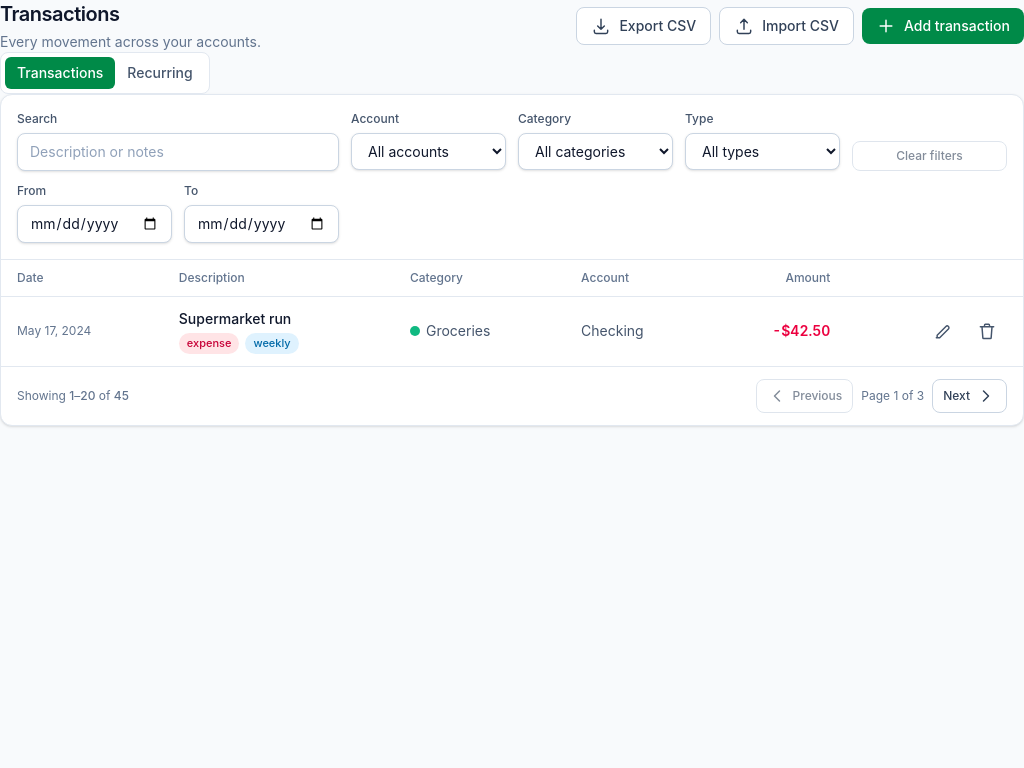
Test: TransactionsPage › deletes a transaction after confirmation
The image size is (1024, 768).
Check: the text "Supermarket run" is shown, box 179,310 -> 291,327
Click the button named "delete supermarket run": (987, 331) 967,315 -> 1007,347
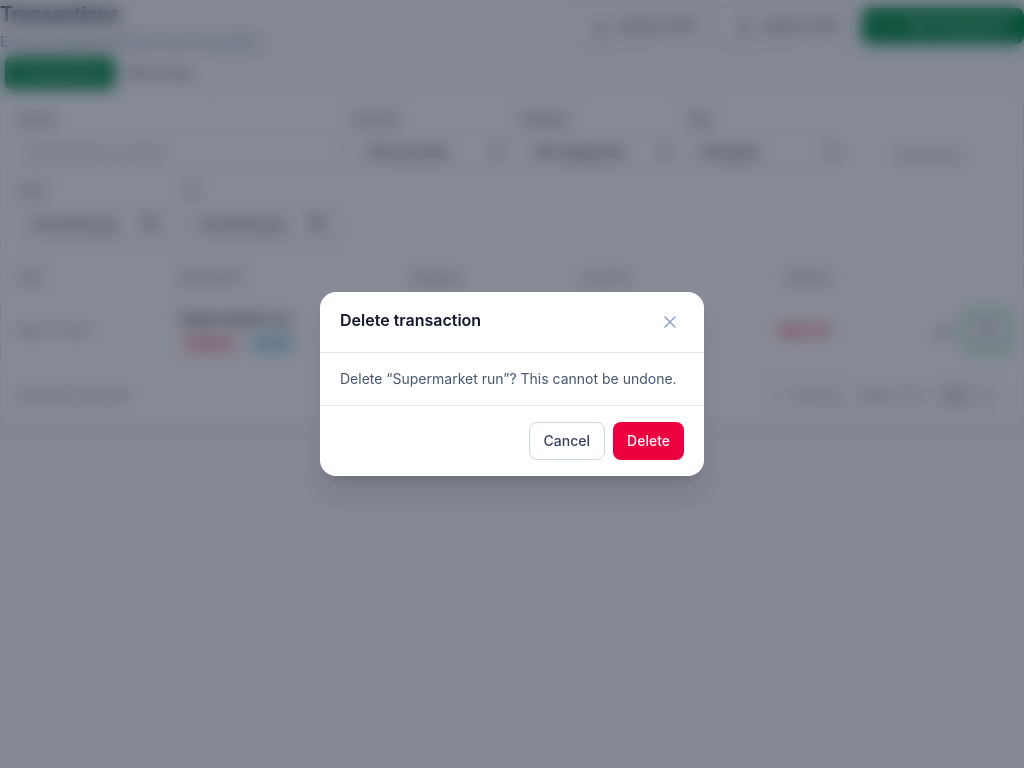
Click the button "Delete": (649, 441) 613,422 -> 684,460
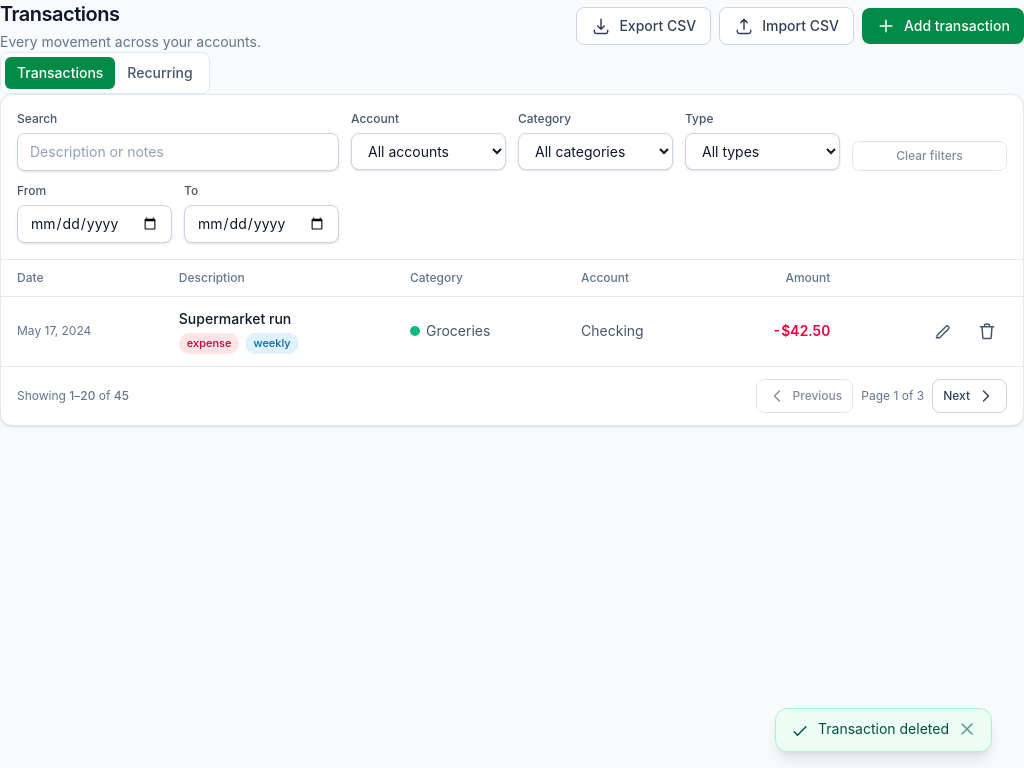
Check: the text "Transaction deleted" is shown, box 818,719 -> 949,739
